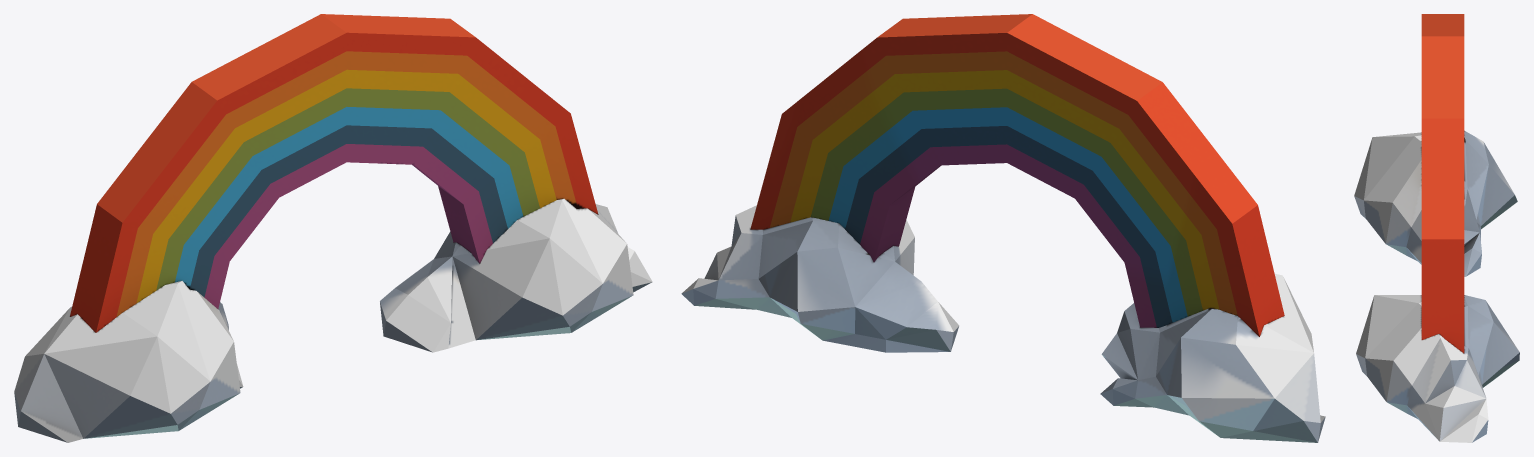
File: arcoiris.gltf
The picture shows the model from 3 angles, left to right: view 1: azimuth 30°, elevation 25°; view 2: azimuth 150°, elevation 25°; view 3: azimuth 270°, elevation 25°; orthographic projection. The views are drawn at different scales.
Visible parts, largest first — view 1: node-0; view 2: node-0; view 3: node-0.
Part boxes in pixels (bbox=[...]): node-0: bbox=[14, 14, 652, 442]; node-0: bbox=[681, 14, 1325, 442]; node-0: bbox=[1354, 14, 1519, 442].
Bounding box in the file's own units: 2.44 × 1.25 × 0.6756.
1 material, 1 textured.
